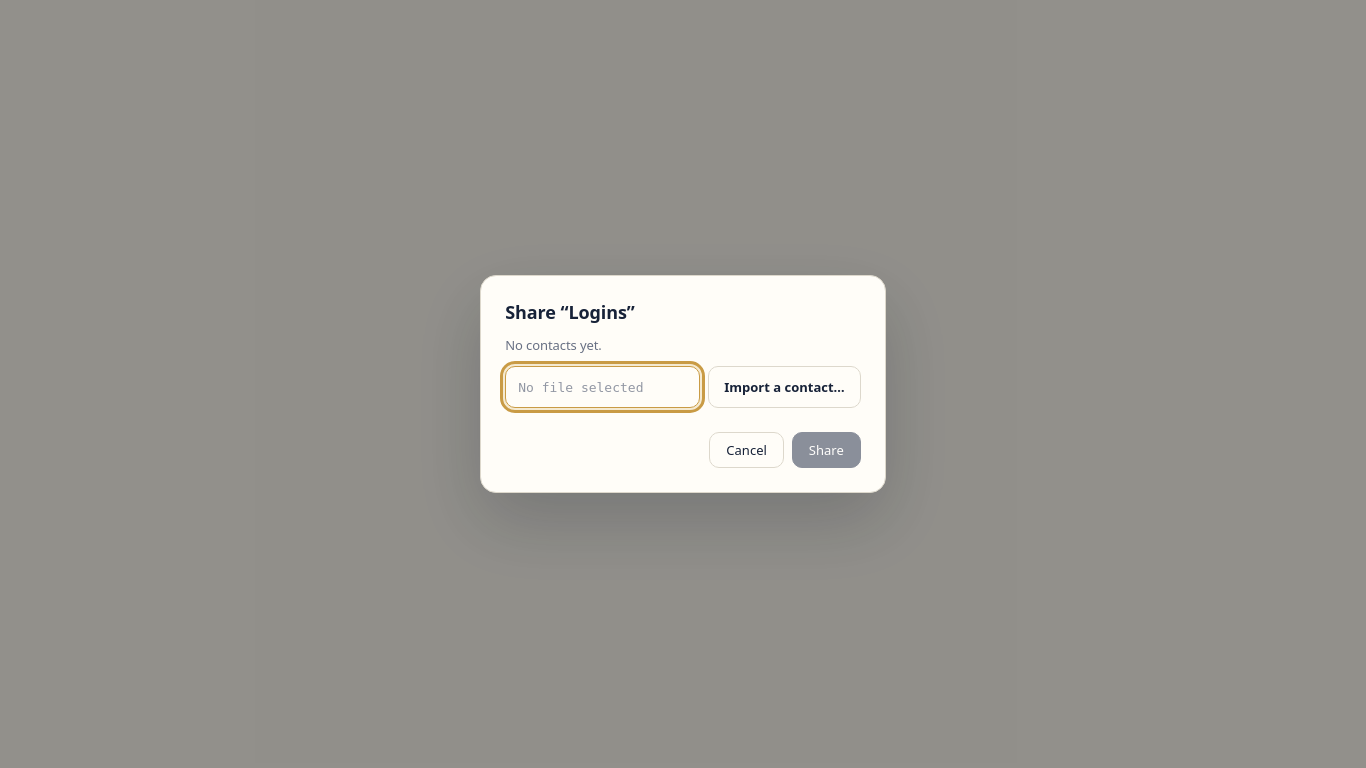
Scenario: ShareDialog.svelte › imports a picked card and re-lists so the new contact appears
The width and height of the screenshot is (1366, 768).
Click the button "Import a contact…". click: (785, 387)
box: [708,366,861,408]
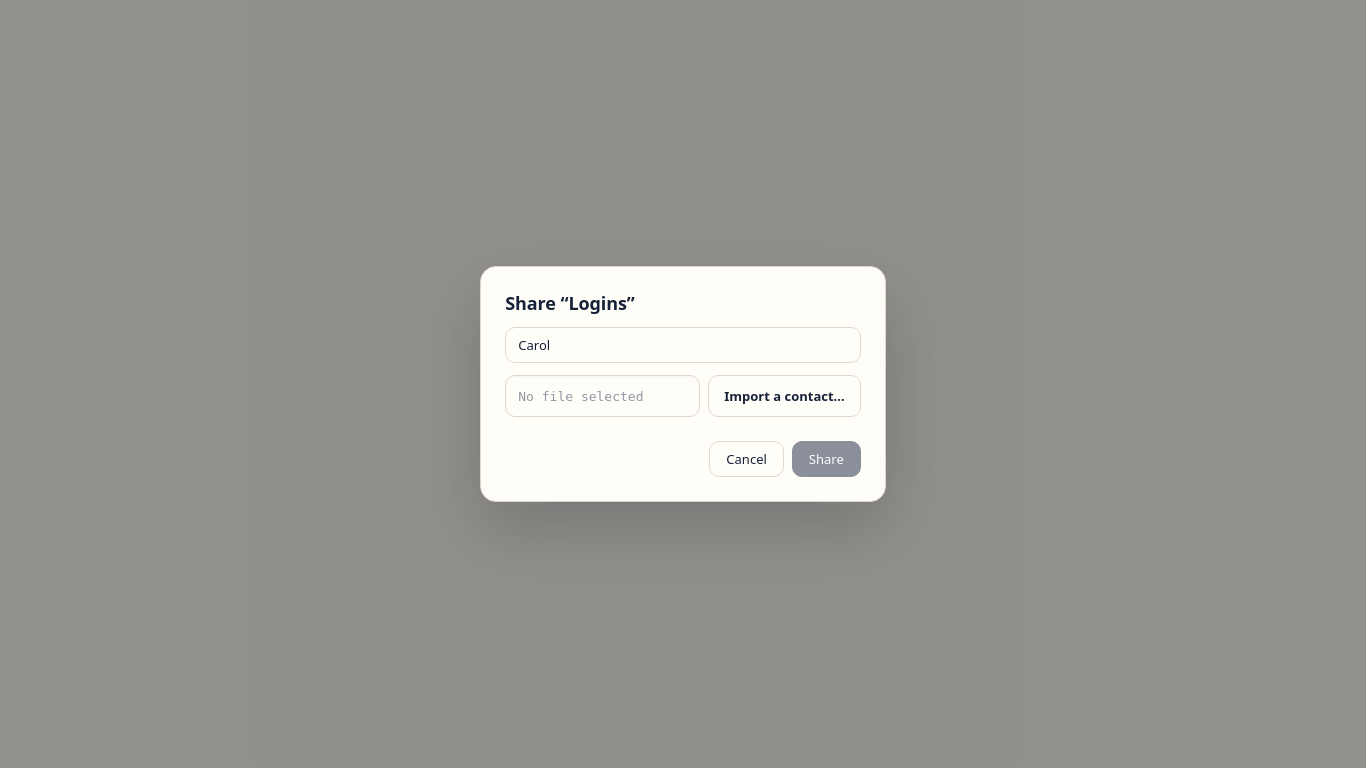
Check: the button "Carol" is shown, box [505,327,861,363]
